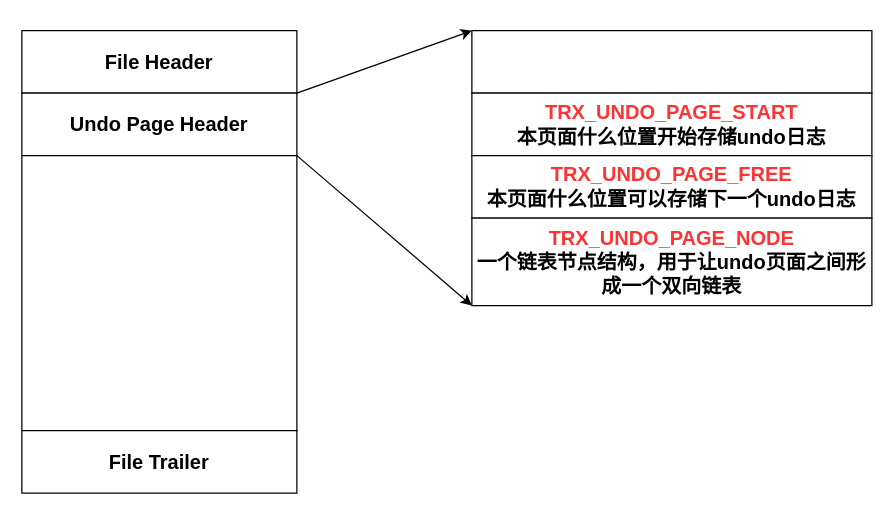
The diagram is 894 pixels wide and 515 high, and some of its shapes have lost their labels. The centre of each missing label's shape, as x and y in pixels:
"TRX_UNDO_PAGE_TYPE 本页面存储什么类型的undo日志" belongs at point (671, 61).
"存放Undo日志" belongs at point (159, 292).
